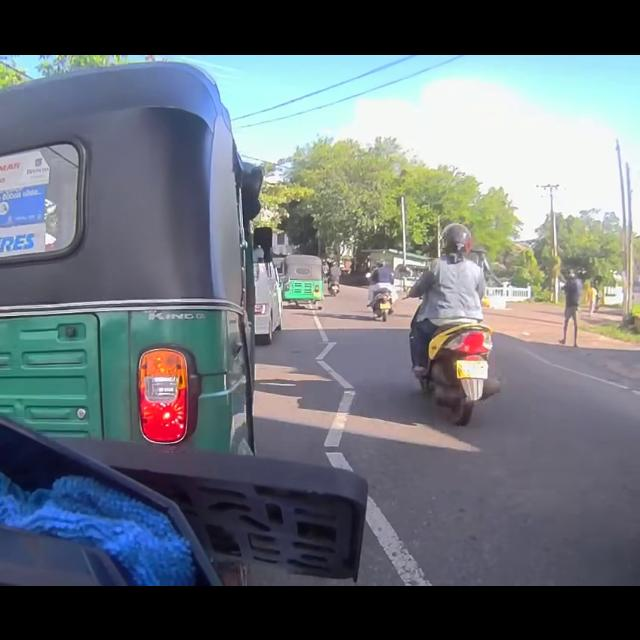helmet: (447, 220, 468, 252)
motorcycle: (407, 318, 479, 406), (372, 285, 391, 317)
person: (437, 221, 479, 345), (376, 257, 388, 291)
solid_line: (306, 330, 362, 468)
three_wheeler: (26, 95, 222, 451), (286, 252, 322, 304)
